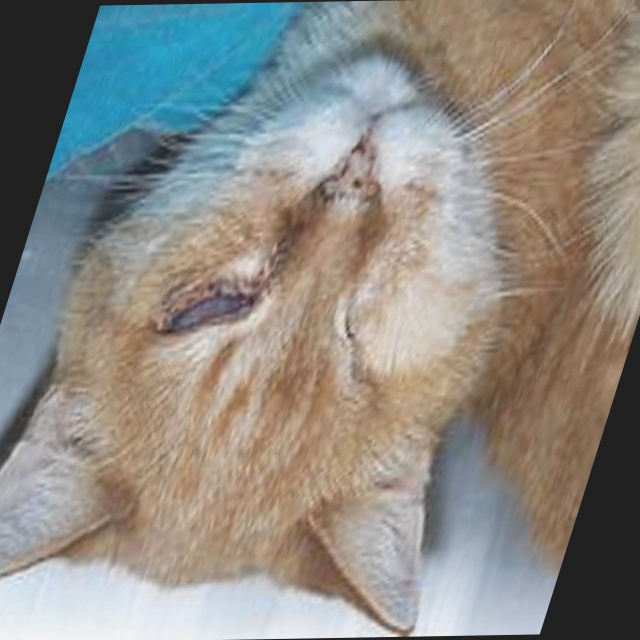eye_infection: (160, 279, 254, 326)
